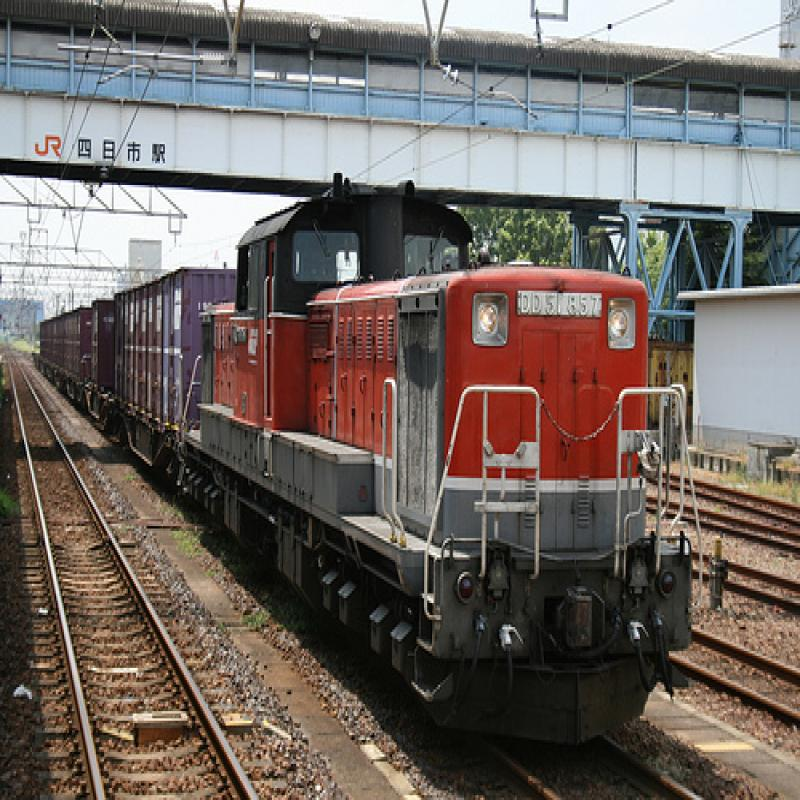train: (40, 174, 704, 751)
